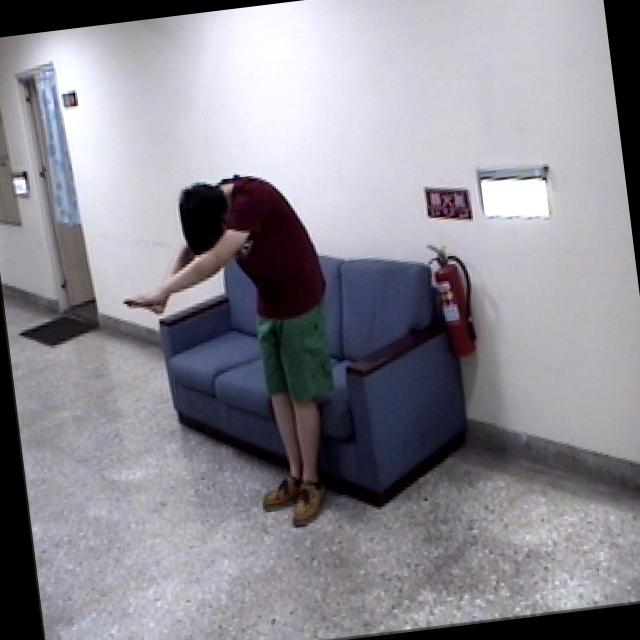bend: (102, 158, 364, 553)
